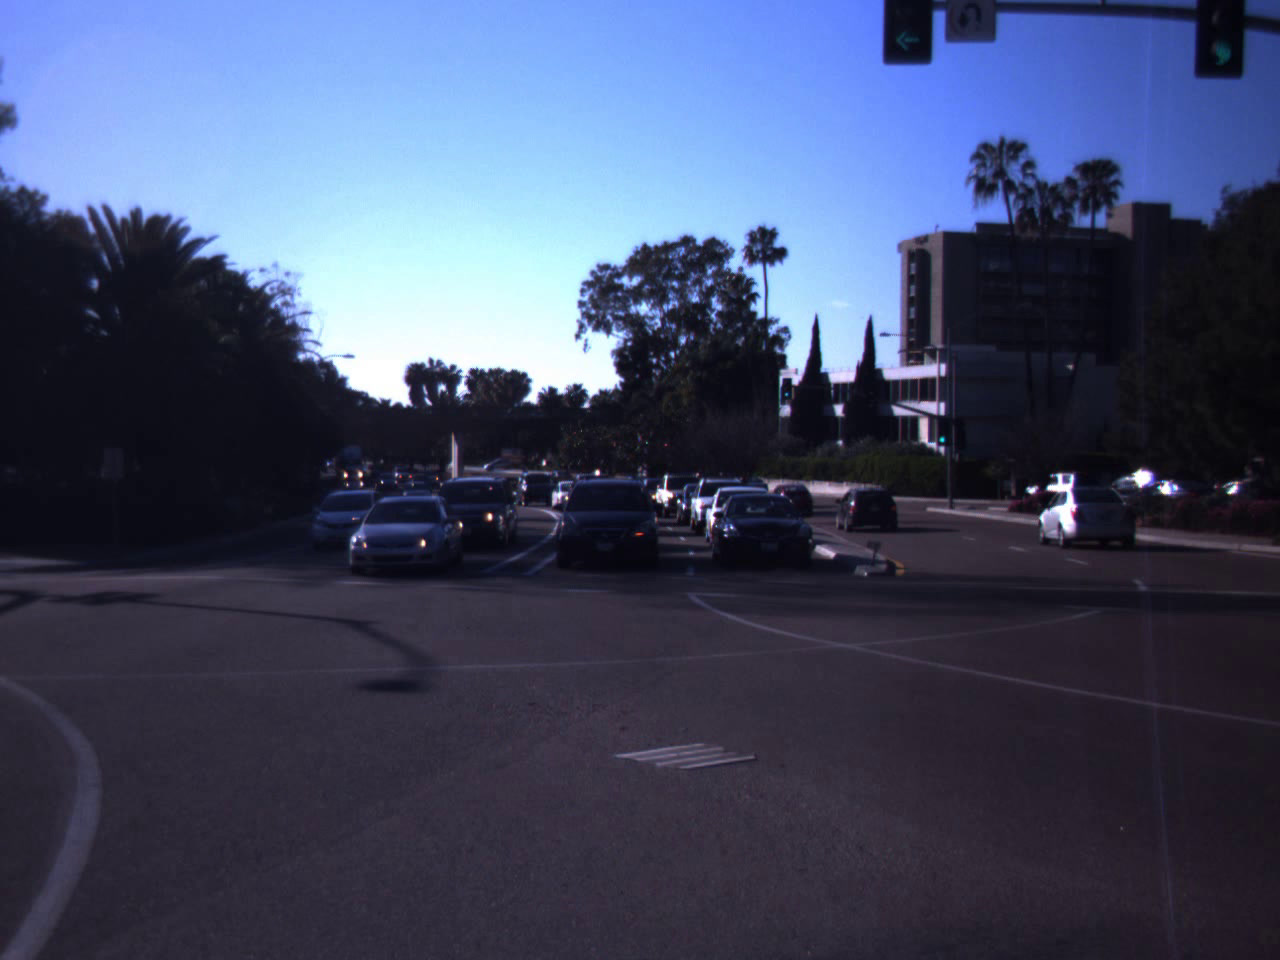go: (1193, 0, 1253, 75), (872, 0, 944, 61)
